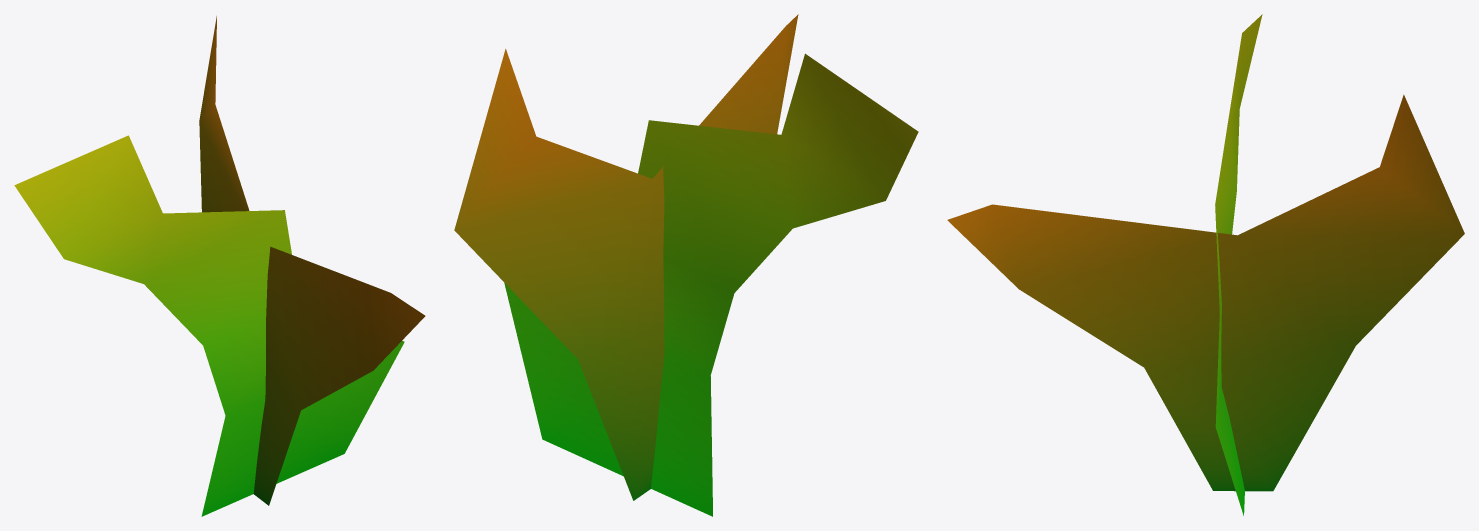
Rendered from Var11Hi5.fbx.
The picture shows the model from 3 angles, left to right: view 1: azimuth 30°, elevation 25°; view 2: azimuth 150°, elevation 25°; view 3: azimuth 270°, elevation 25°; orthographic projection. The views are drawn at different scales.
Visible parts, largest first — view 1: bend1; view 2: bend1; view 3: bend1.
Boxes of the visible parts, bbox=[...] form: bend1: bbox=[14, 16, 425, 516]; bend1: bbox=[454, 14, 918, 516]; bend1: bbox=[947, 14, 1464, 515].
Bounding box in the file's own units: 1.35 × 1.49 × 1.63.
